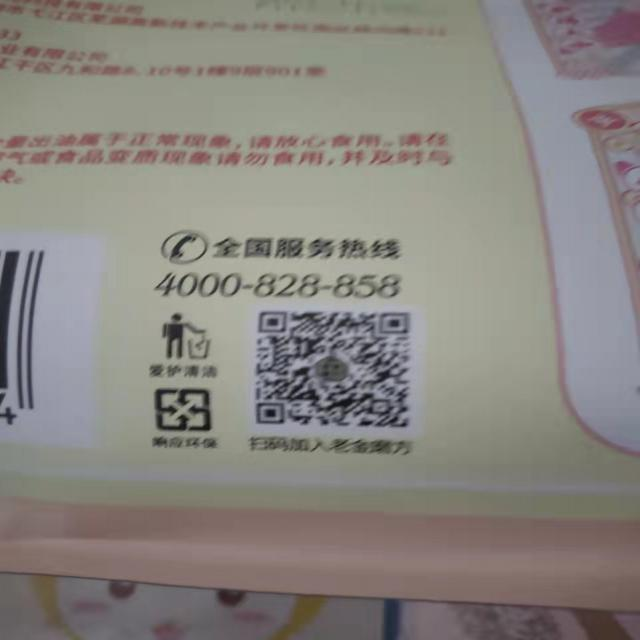qr_code: (254, 310, 411, 430)
